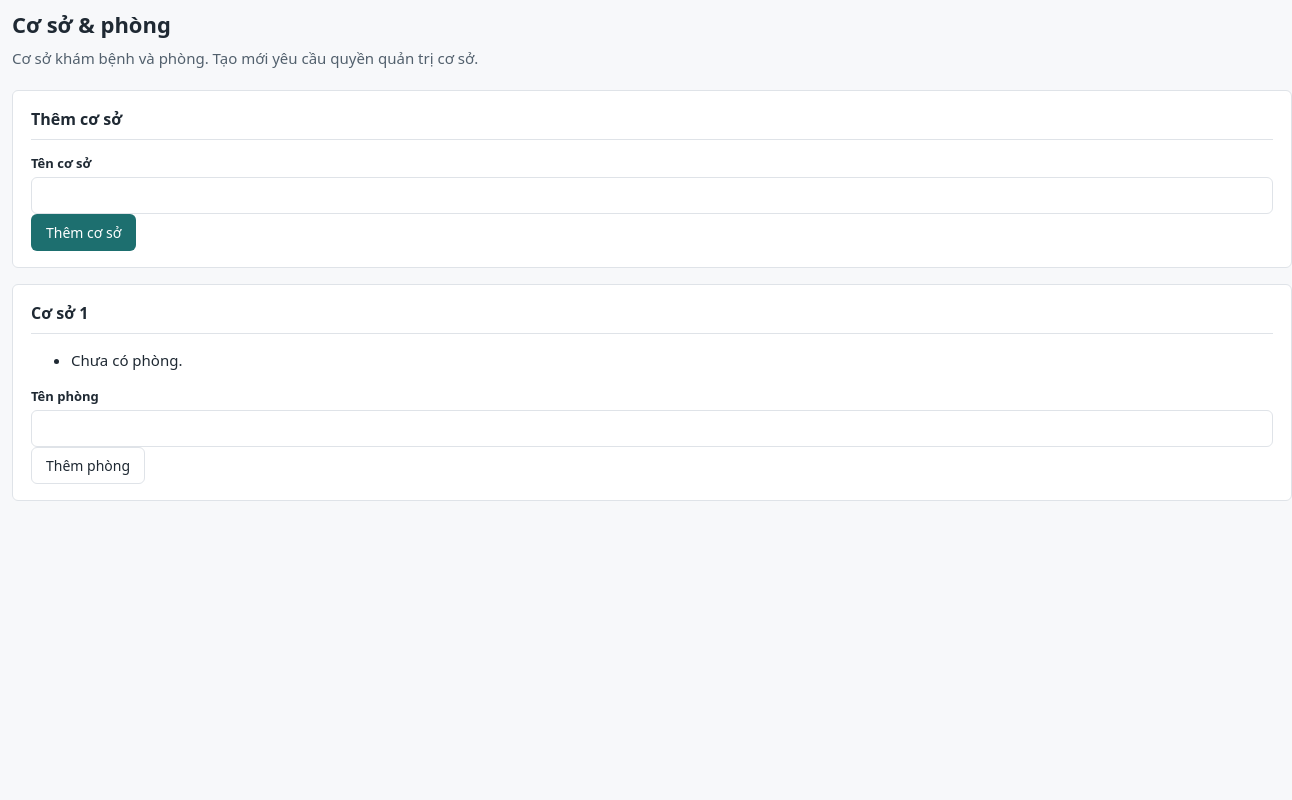
Test case: FacilitiesRoomsPage (DEC-018) › creates a room under a facility with a success toast
Expected: the heading "Cơ sở 1" is shown, x1=31 y1=301 x2=1273 y2=334
In the field labelled "Tên phòng": (652, 428) x1=31 y1=410 x2=1273 y2=447, type "Phòng 1"
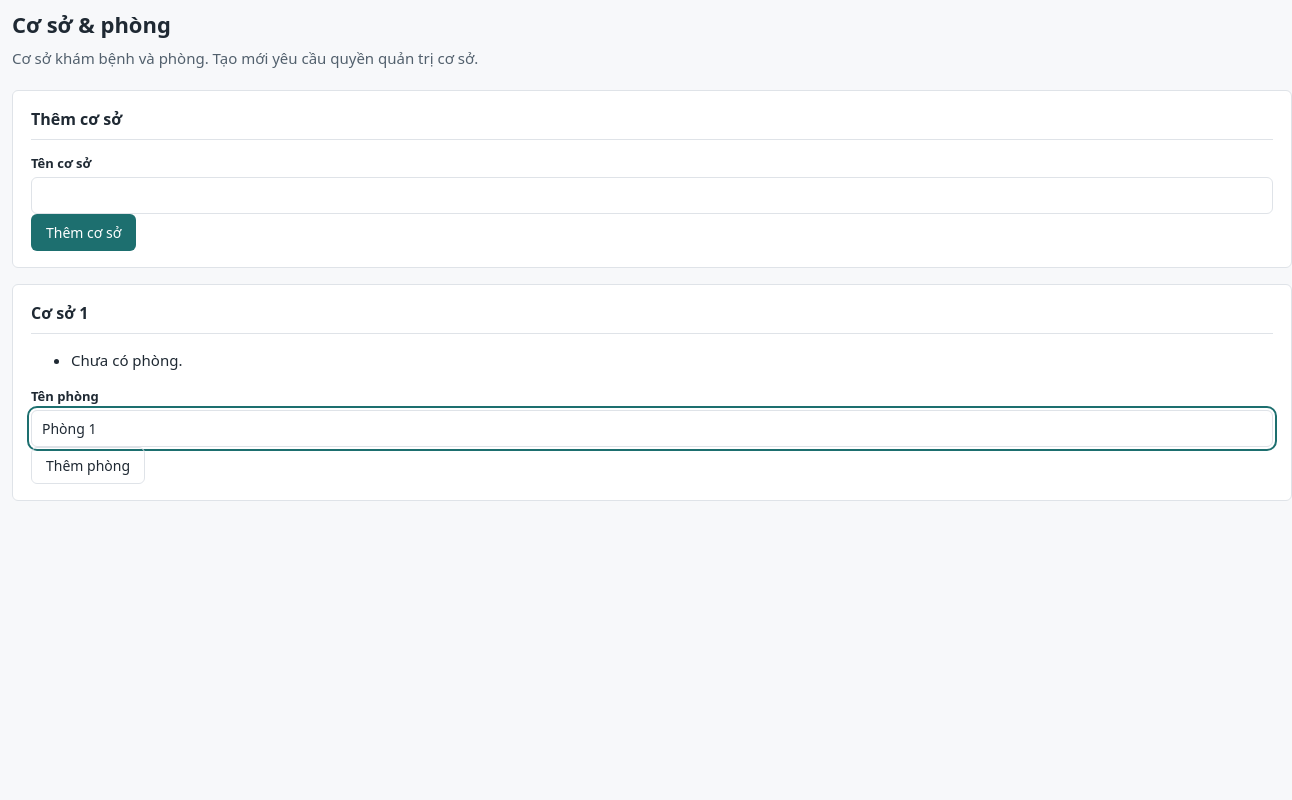
Click the button "Thêm phòng": click(88, 466) x1=31 y1=447 x2=145 y2=484
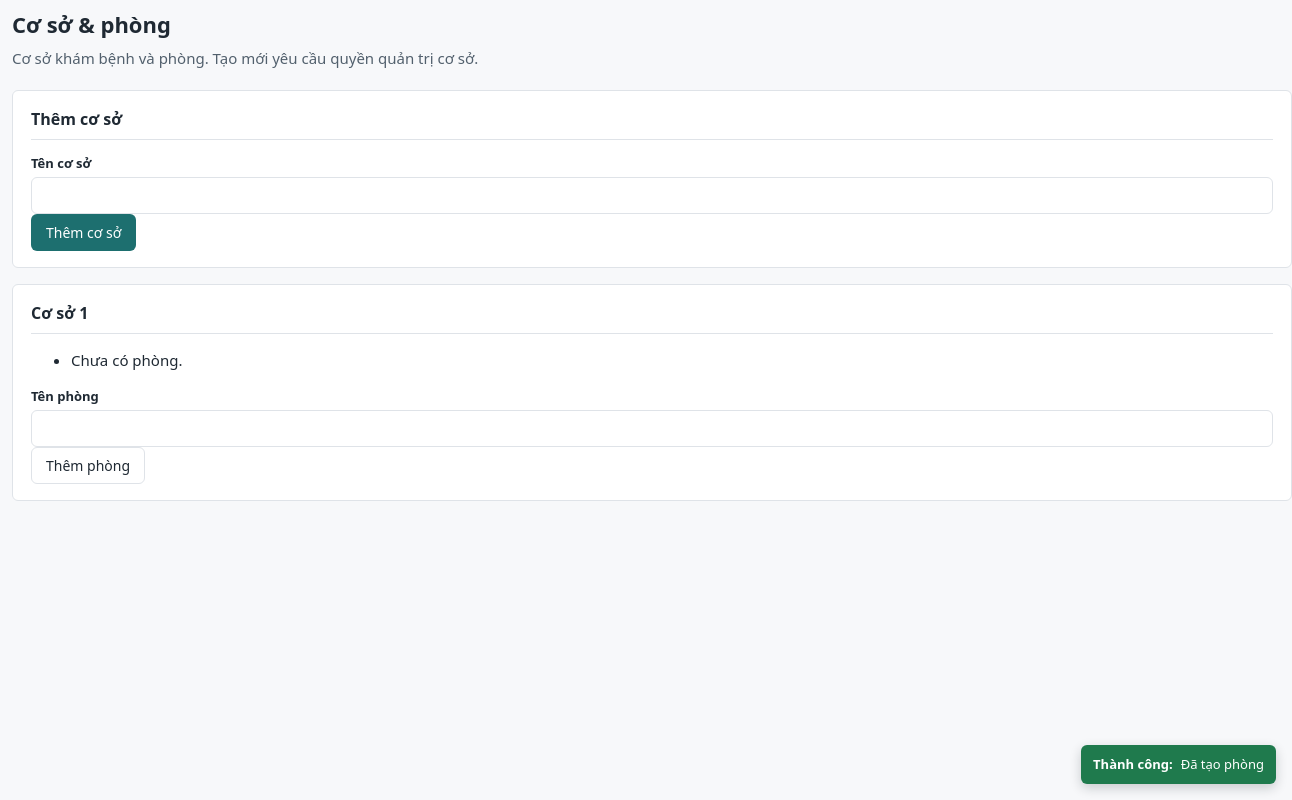
Now the text "Đã tạo phòng" is shown, box x1=1181 y1=754 x2=1264 y2=774
